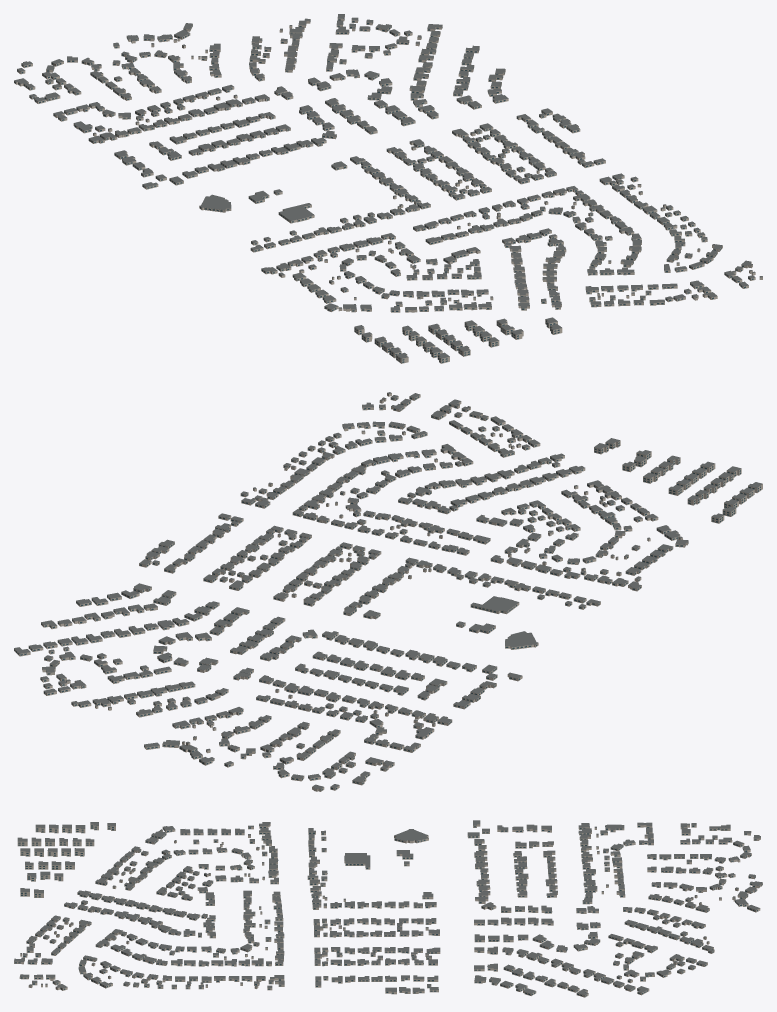
3 views of the same model, one above another, from view 1: azimuth 30°, elevation 25°; view 2: azimuth 150°, elevation 25°; view 3: azimuth 270°, elevation 25° (orthographic). The views are drawn at different scales.
Parts seen in each view (by area): view 1: Buildings (1, -6) Roof membrane, Buildings (1, -6) Masonry brick, Buildings (1, -6) Architectural tinted glass, Buildings (1, -6) Metal coping; view 2: Buildings (1, -6) Roof membrane, Buildings (1, -6) Masonry brick, Buildings (1, -6) Architectural tinted glass, Buildings (1, -6) Metal coping; view 3: Buildings (1, -6) Roof membrane, Buildings (1, -6) Masonry brick, Buildings (1, -6) Architectural tinted glass, Buildings (1, -6) Metal coping.
Boxes of the visible parts, bbox=[...] form: Buildings (1, -6) Roof membrane: bbox=[14, 14, 762, 358]; Buildings (1, -6) Masonry brick: bbox=[14, 15, 762, 363]; Buildings (1, -6) Architectural tinted glass: bbox=[14, 19, 753, 362]; Buildings (1, -6) Metal coping: bbox=[16, 14, 760, 358]; Buildings (1, -6) Roof membrane: bbox=[14, 392, 762, 788]; Buildings (1, -6) Masonry brick: bbox=[14, 393, 762, 791]; Buildings (1, -6) Architectural tinted glass: bbox=[14, 396, 760, 790]; Buildings (1, -6) Metal coping: bbox=[15, 392, 757, 789]; Buildings (1, -6) Roof membrane: bbox=[14, 820, 762, 995]; Buildings (1, -6) Masonry brick: bbox=[14, 824, 762, 997]; Buildings (1, -6) Architectural tinted glass: bbox=[14, 825, 762, 996]; Buildings (1, -6) Metal coping: bbox=[14, 822, 761, 993].
Bounding box in the file's own units: 559 × 8.34 × 1014.
